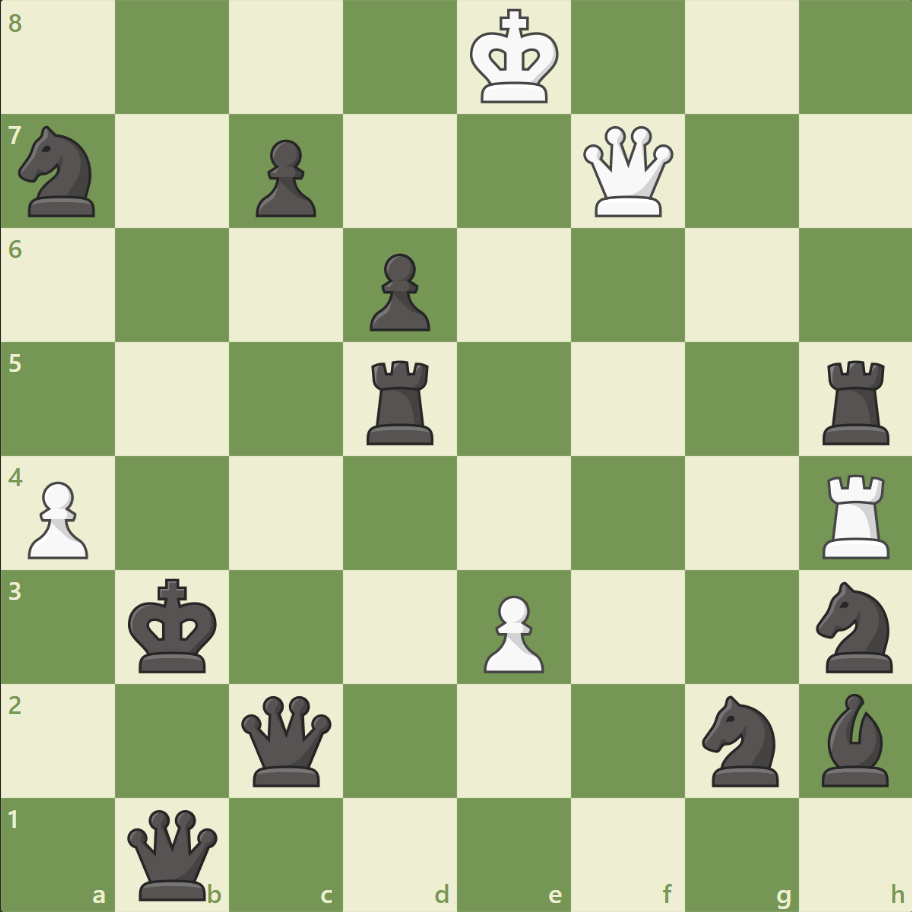K: (465, 4, 565, 112)
P: (20, 473, 95, 564), (474, 586, 549, 677)
Q: (578, 122, 677, 222)
R: (814, 466, 897, 563)
b: (812, 687, 896, 790)
k: (124, 571, 224, 679)
n: (692, 688, 789, 791), (11, 121, 108, 223), (806, 575, 903, 677)
p: (247, 132, 322, 223), (361, 246, 435, 337)
q: (237, 690, 336, 789), (124, 804, 223, 903)
r: (814, 352, 897, 449), (360, 352, 442, 449)
